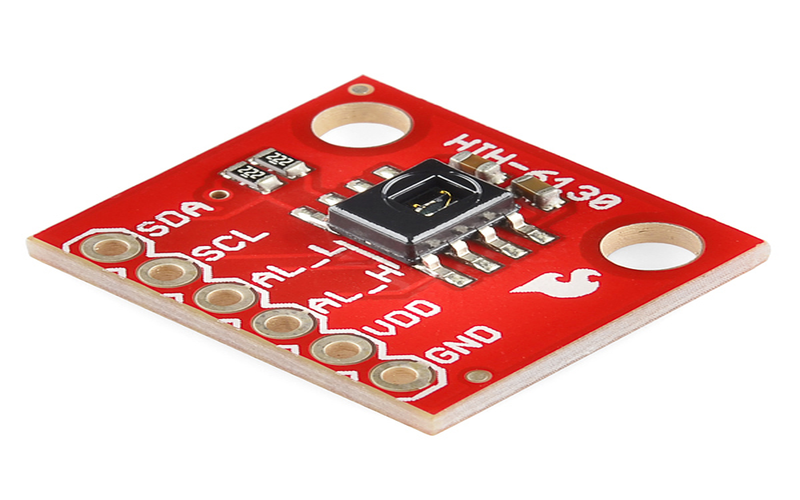Cirtuit-Board: (25, 49, 777, 442)
